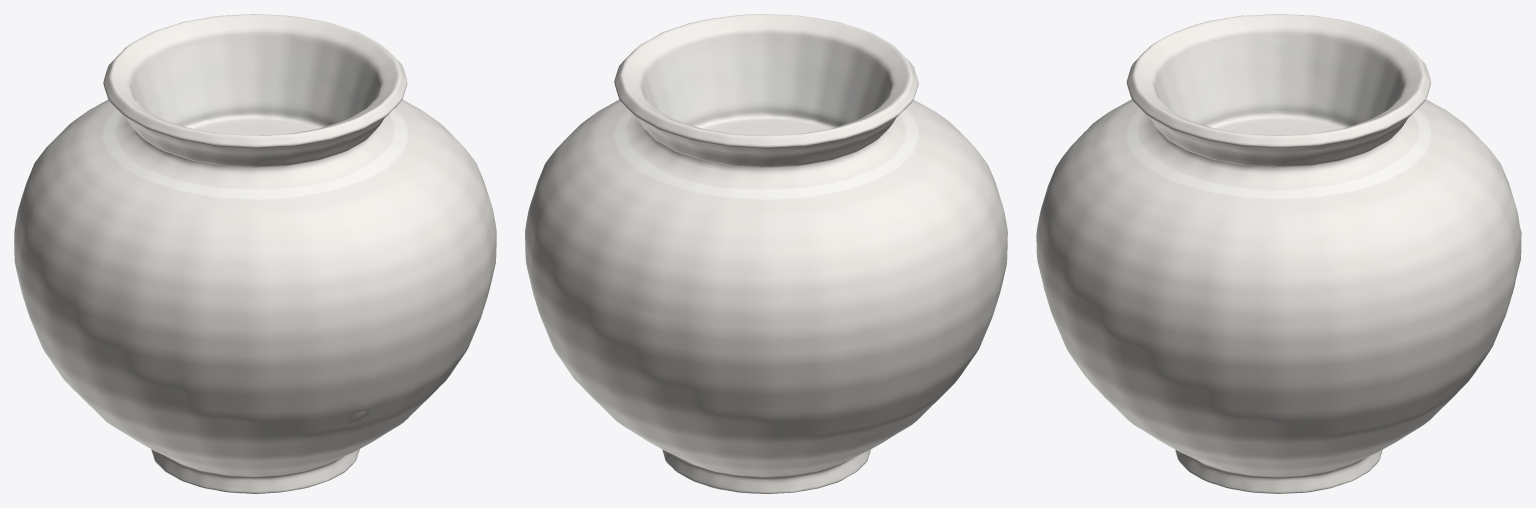
File: 静物_瓶罐_white ceramic vase.glb
3 renders of one model, left to right at view 1: azimuth 30°, elevation 25°; view 2: azimuth 150°, elevation 25°; view 3: azimuth 270°, elevation 25°, orthographic.
Visible parts, largest first — view 1: material_0; view 2: material_0; view 3: material_0.
Part boxes in pixels (x1=…): material_0: x1=14, y1=14, x2=496, y2=493; material_0: x1=525, y1=14, x2=1007, y2=493; material_0: x1=1036, y1=14, x2=1521, y2=493.
Bounding box in the file's own units: 0.3497 × 0.3 × 0.3508.
1 material, 1 textured.
